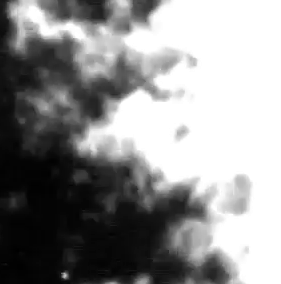Target: (62, 271, 69, 279)
